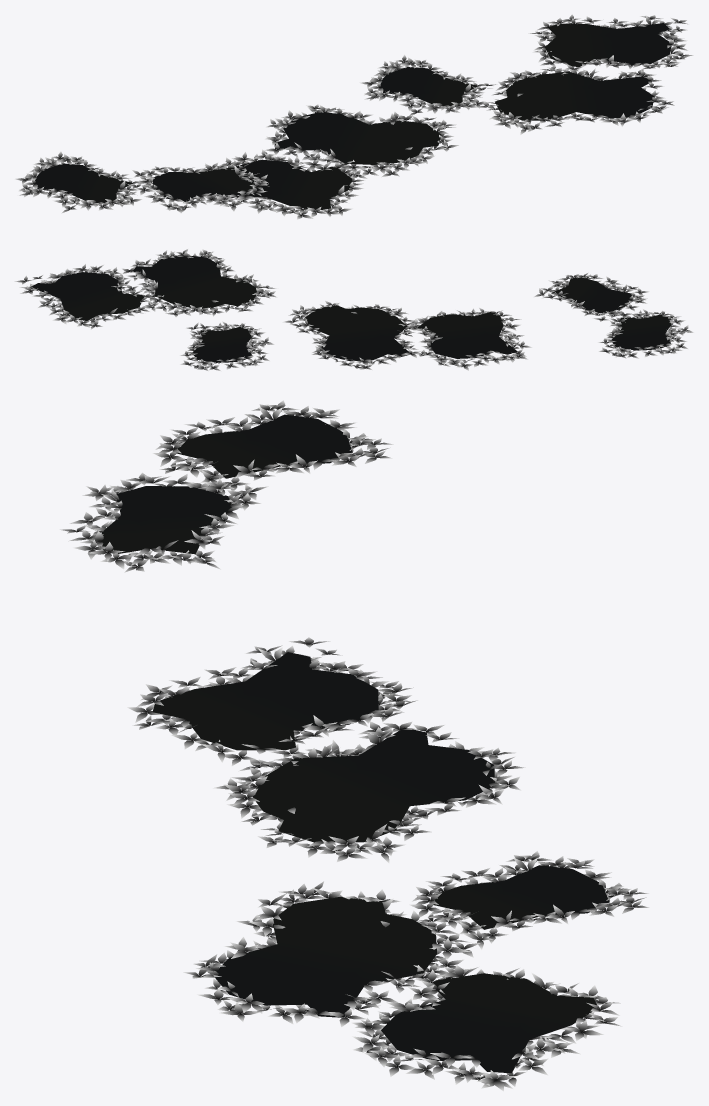
File: SM_ENV_KNFRST_LeafShadow_GroupG.FBX
The picture shows the model from 3 angles, top to bottom: view 1: azimuth 30°, elevation 25°; view 2: azimuth 150°, elevation 25°; view 3: azimuth 270°, elevation 25°; orthographic projection. The views are drawn at different scales.
Visible parts, largest first — view 1: SM_ENV_KNFRST_LeafShadow_GroupG; view 2: SM_ENV_KNFRST_LeafShadow_GroupG; view 3: SM_ENV_KNFRST_LeafShadow_GroupG.
Part boxes in pixels (x1,y1,x2,y2): SM_ENV_KNFRST_LeafShadow_GroupG: (15, 14, 693, 219); SM_ENV_KNFRST_LeafShadow_GroupG: (14, 249, 693, 371); SM_ENV_KNFRST_LeafShadow_GroupG: (60, 400, 649, 1091).
Bounding box in the file's own units: 3875 × 370 × 1604.
